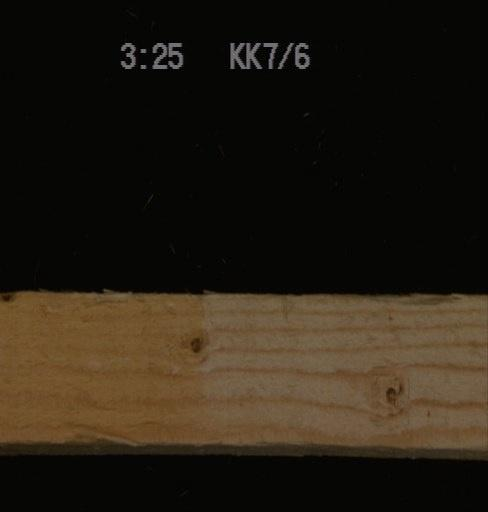edge_knot: (0, 289, 16, 307)
small_knot: (364, 361, 415, 424), (174, 324, 214, 367)
